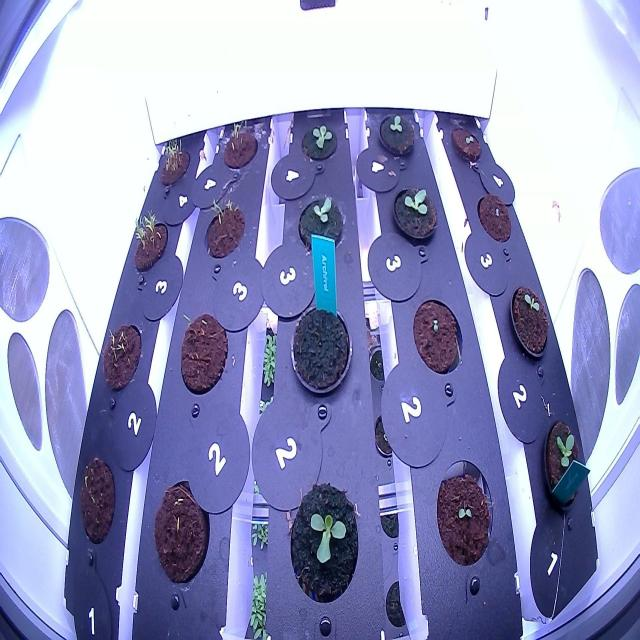germination: (284, 476, 363, 615), (433, 444, 498, 575), (540, 410, 586, 521), (410, 292, 465, 383), (506, 274, 552, 366), (200, 189, 248, 275), (293, 189, 347, 264), (98, 315, 144, 398), (388, 177, 440, 249), (128, 204, 169, 284), (219, 112, 260, 180), (374, 106, 418, 162), (155, 132, 192, 194), (448, 117, 486, 170)
pod: (148, 469, 214, 595), (288, 295, 354, 403), (177, 304, 229, 402), (74, 450, 120, 548), (473, 186, 517, 250)
young: (295, 114, 343, 170)
